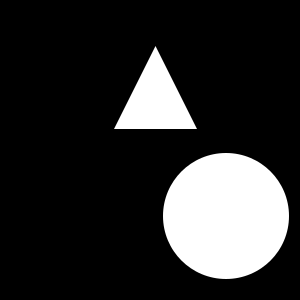rectangle: (163, 153, 289, 279)
triangle: (114, 46, 197, 129)
